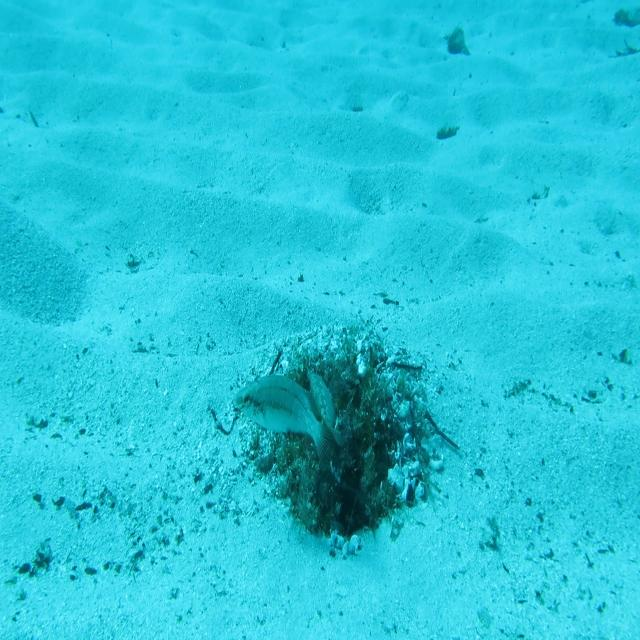NIP_IN: (305, 365, 344, 449)
female: (230, 369, 336, 477)
nest: (226, 308, 449, 562)
vegetation: (604, 0, 640, 63), (444, 24, 473, 59), (436, 124, 460, 144)
